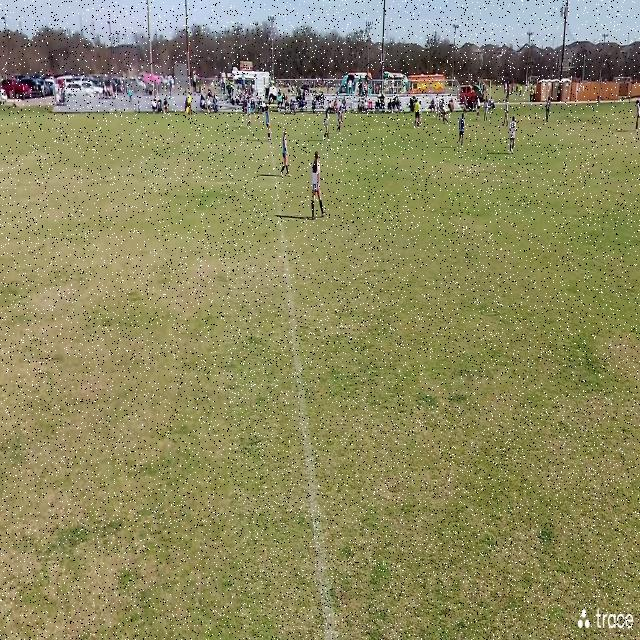Ball: (389, 115, 393, 122)
Referee: (184, 89, 191, 116), (415, 99, 419, 129)
TEAM 1: (280, 132, 292, 180), (457, 109, 466, 150), (266, 106, 274, 144), (246, 98, 252, 128), (463, 95, 467, 116)
TEAM 2: (308, 152, 323, 221), (509, 115, 518, 154), (322, 110, 331, 144), (337, 102, 345, 136), (634, 97, 640, 132), (544, 91, 550, 123), (504, 99, 510, 131), (482, 100, 488, 121), (442, 103, 448, 124), (475, 94, 480, 119), (418, 100, 422, 126), (437, 99, 441, 119)
